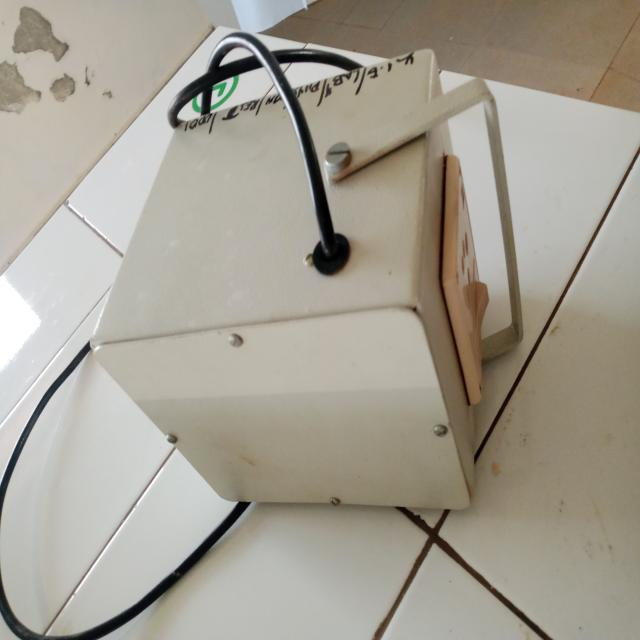Auto Variac AC Transformer 0-280 V: (86, 43, 510, 524)
